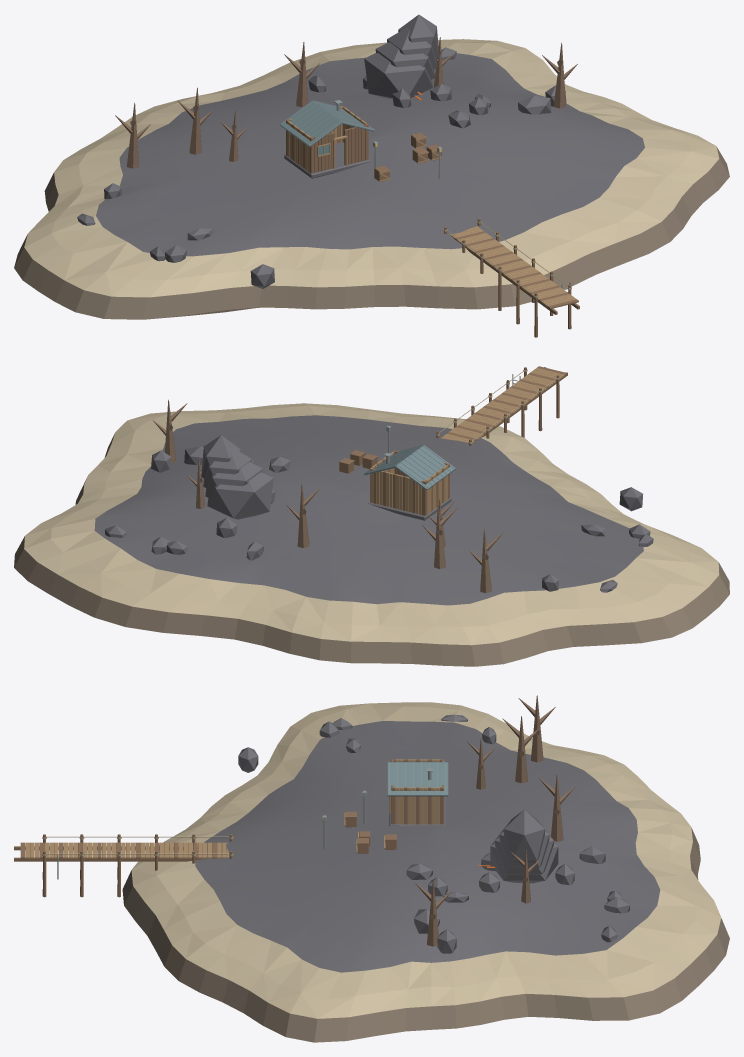
The model's file is Island_Volcanic_Original.fbx.
3 renders of one model, top to bottom at view 1: azimuth 30°, elevation 25°; view 2: azimuth 150°, elevation 25°; view 3: azimuth 270°, elevation 25°, orthographic. The views are drawn at different scales.
Visible parts, largest first — view 1: Terrain_Volcanic, VegetationAndRocks, HarbourProps, HarbourCabin, FishingDock; view 2: Terrain_Volcanic, VegetationAndRocks, HarbourProps, HarbourCabin, FishingDock; view 3: Terrain_Volcanic, VegetationAndRocks, FishingDock, HarbourProps, HarbourCabin.
Part boxes in pixels (<box>): Terrain_Volcanic: <box>14,39,729,319</box>; VegetationAndRocks: <box>77,37,577,288</box>; HarbourProps: <box>364,14,442,181</box>; HarbourCabin: <box>280,100,374,178</box>; FishingDock: <box>443,218,579,337</box>; Terrain_Volcanic: <box>14,403,729,666</box>; VegetationAndRocks: <box>105,399,653,592</box>; HarbourProps: <box>201,425,390,519</box>; HarbourCabin: <box>364,445,455,520</box>; FishingDock: <box>436,366,567,445</box>; Terrain_Volcanic: <box>122,702,729,1042</box>; VegetationAndRocks: <box>238,695,629,953</box>; FishingDock: <box>14,834,233,897</box>; HarbourProps: <box>322,790,558,883</box>; HarbourCabin: <box>387,759,448,825</box>.
Size of the model in its own units: 5789 by 1260 by 5372.
